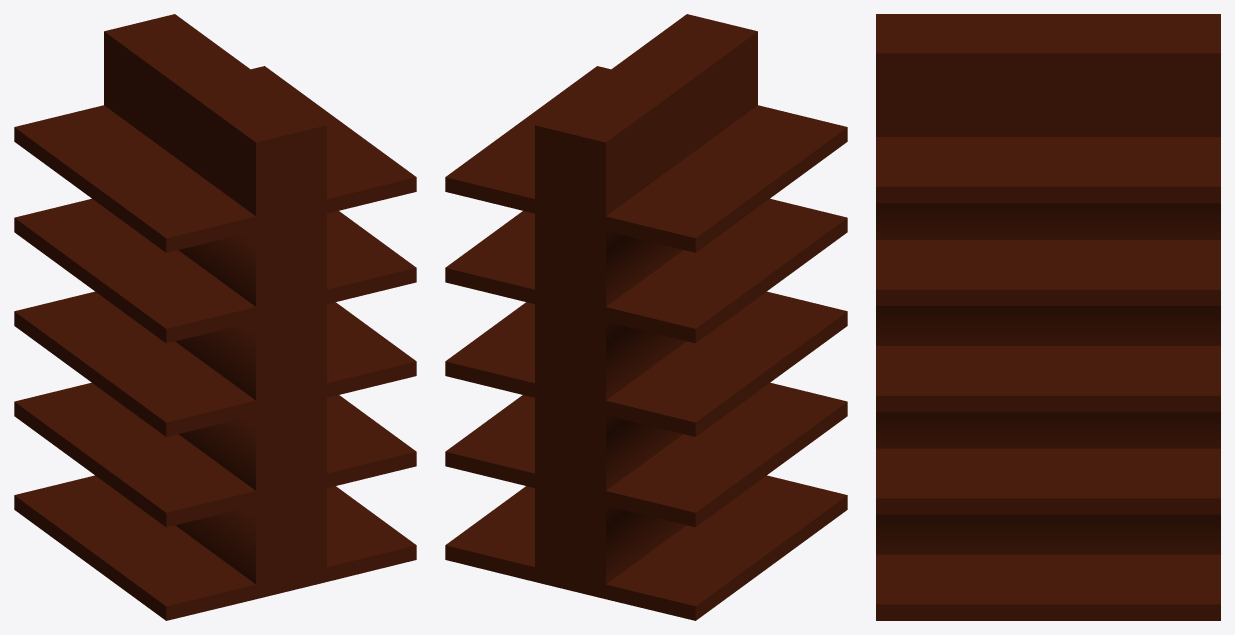
The model's file is DoubleShelf.fbx.
3 views of the same model, side by side, from view 1: azimuth 30°, elevation 25°; view 2: azimuth 150°, elevation 25°; view 3: azimuth 270°, elevation 25° (orthographic). The views are drawn at different scales.
Parts seen in each view (by area): view 1: Double Shelf; view 2: Double Shelf; view 3: Double Shelf.
Boxes of the visible parts, x1,y1,x2,y2 form: Double Shelf: (14,14,416,620); Double Shelf: (445,14,847,620); Double Shelf: (876,14,1220,620).
Bounding box in the file's own units: 46.84 × 81.63 × 49.24.
